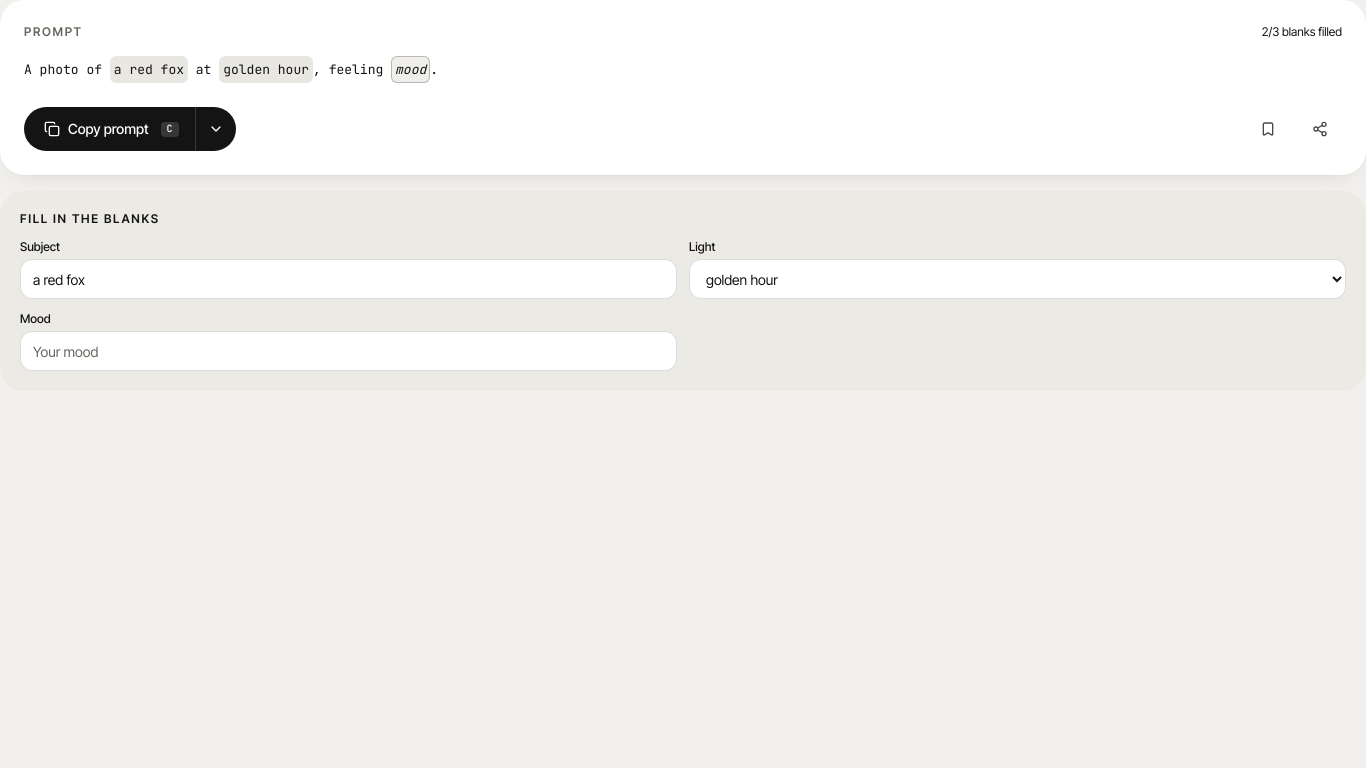
Test: PromptWorkbench › updates the prompt live as you type and copies the filled version
Type "calm" into the field labelled "Mood".
click(348, 351); type("calm")  # box x1=20 y1=331 x2=677 y2=371
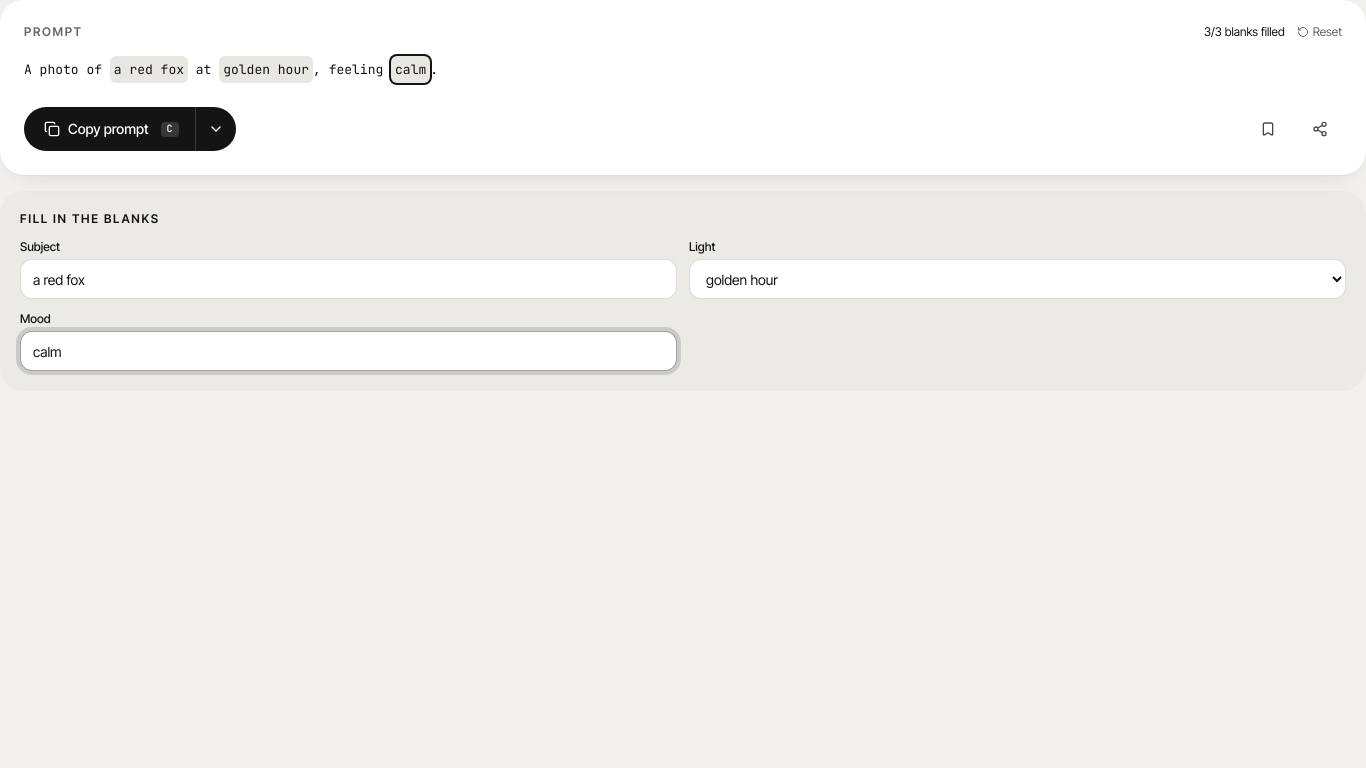
Select "blue hour" in the dropdown labelled "Light" at (1018, 279), box x1=689 y1=259 x2=1346 y2=299
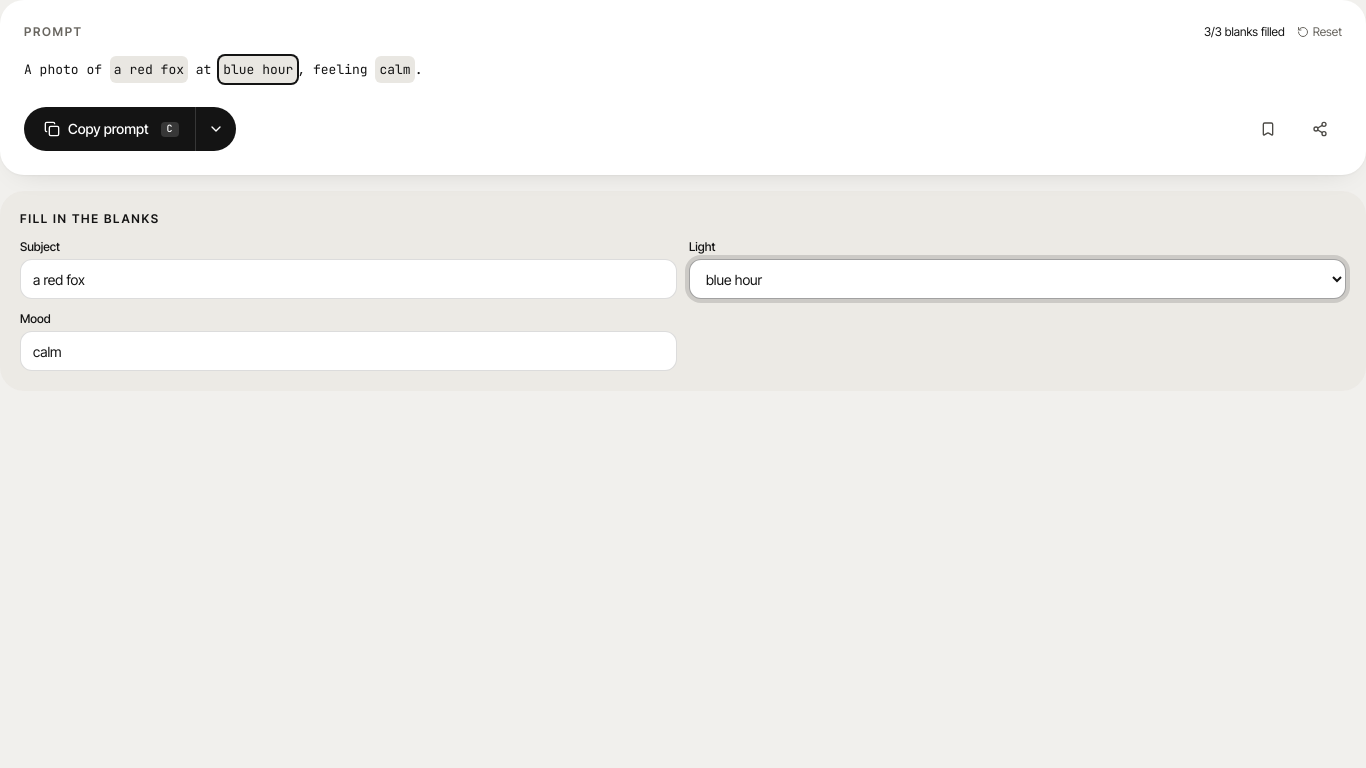
Now the button with aria-label "edit mood" reads "calm", box x1=375 y1=56 x2=415 y2=83
Now the text "3/3 blanks filled" is shown, box x1=1204 y1=24 x2=1285 y2=40
Click the button "Copy prompt C".
click(109, 129)  # box x1=24 y1=107 x2=195 y2=151
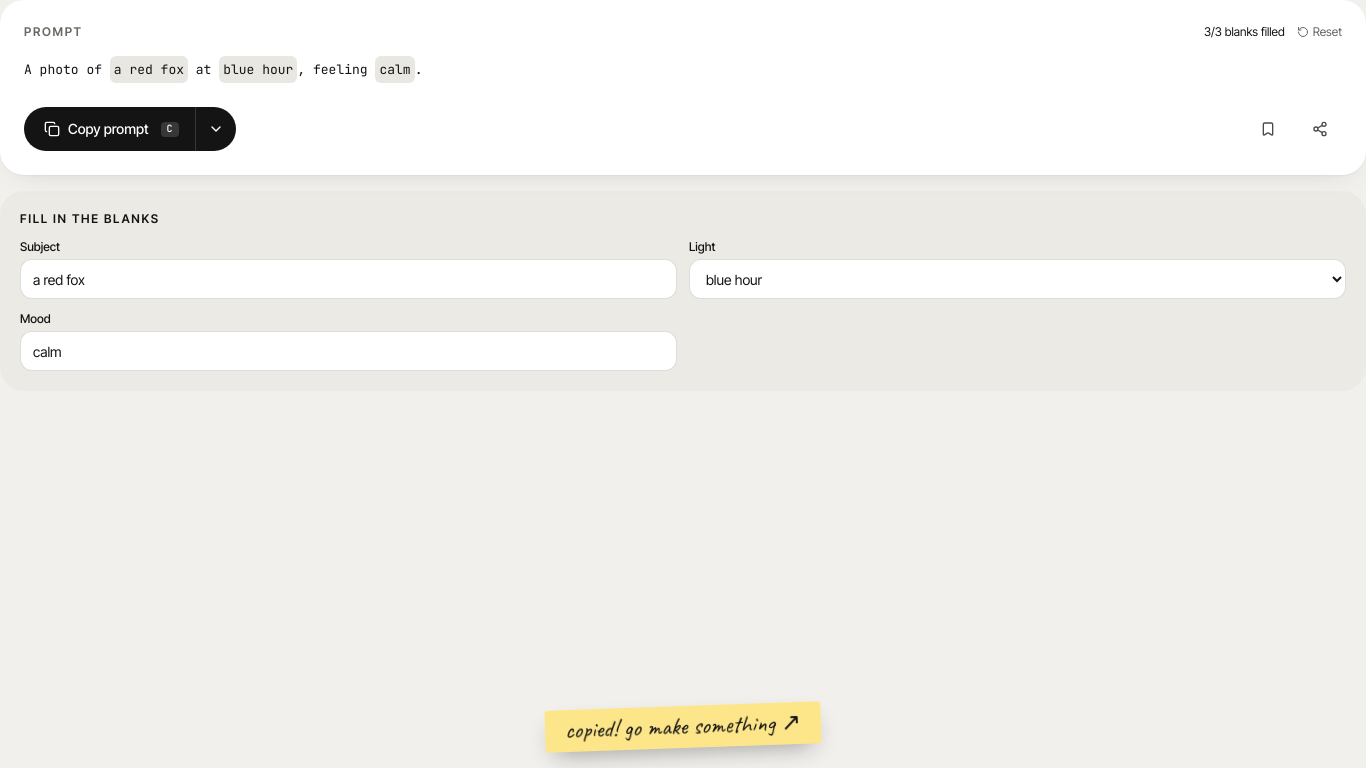
Now the text "copied! go make something ↗" is shown, box x1=544 y1=701 x2=822 y2=753
